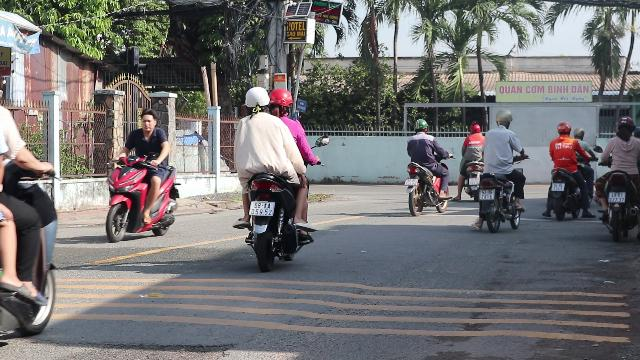helmet: (242, 86, 270, 115), (268, 88, 294, 116), (614, 116, 636, 138), (494, 109, 512, 127)
licenseplate: (249, 200, 275, 216), (609, 192, 625, 202), (479, 190, 495, 200), (0, 72, 4, 103)
motorcyclist: (228, 84, 318, 268), (102, 107, 180, 241), (475, 108, 527, 231), (593, 116, 639, 240)
nohelmet: (140, 109, 156, 131)
